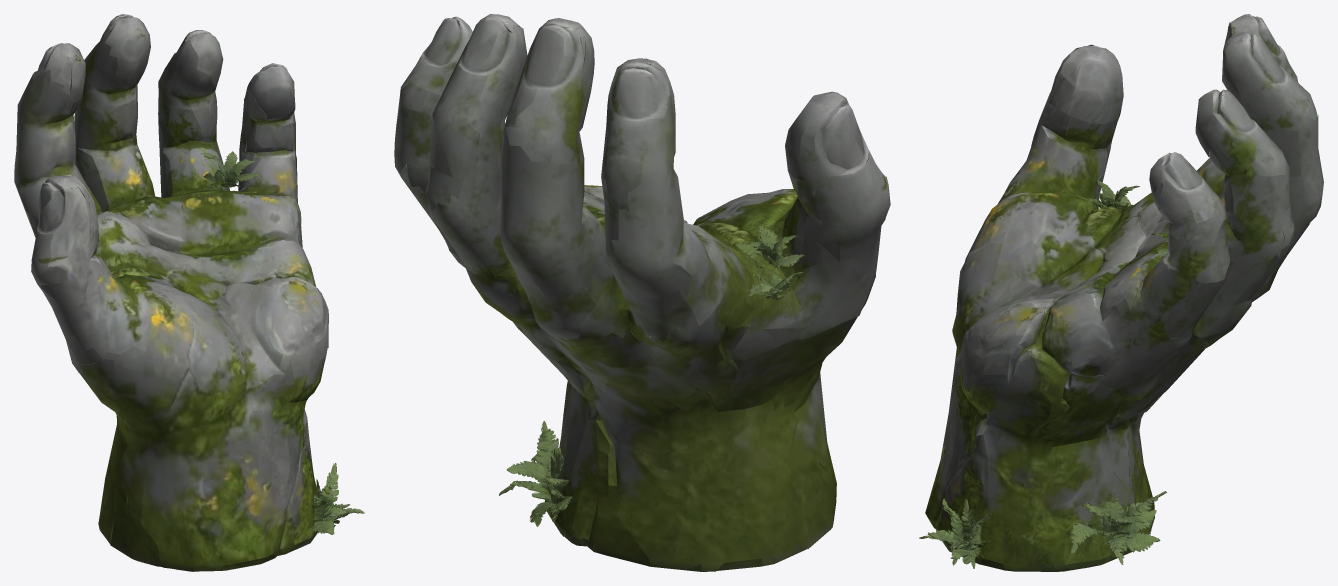
Rendered from stone_hand.glb.
3 renders of one model, left to right at view 1: azimuth 30°, elevation 25°; view 2: azimuth 150°, elevation 25°; view 3: azimuth 270°, elevation 25°, orthographic. The views are drawn at different scales.
Visible parts, largest first — view 1: Mesh_0; view 2: Mesh_0; view 3: Mesh_0.
Part boxes in pixels (<box>): Mesh_0: <box>14,14,364,571</box>; Mesh_0: <box>394,14,890,571</box>; Mesh_0: <box>919,14,1323,571</box>.
Size of the model in its own units: 6.33 by 8.5 by 6.36.
1 material, 1 textured.
